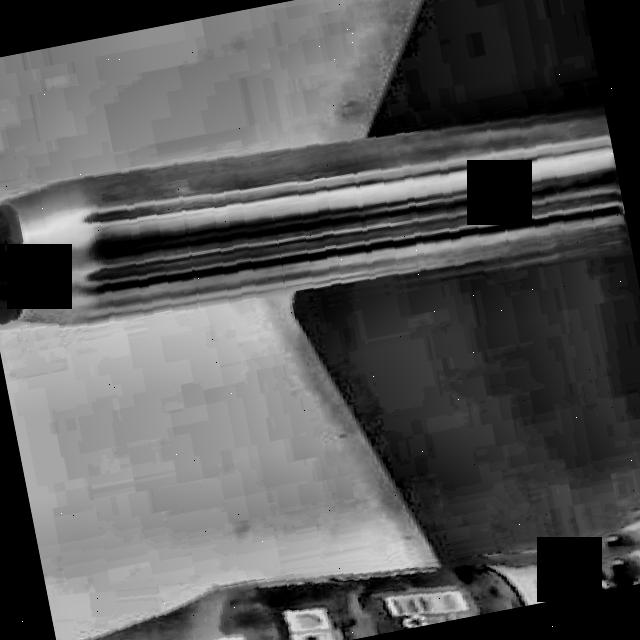bottle: (0, 104, 627, 324), (81, 546, 640, 640)
